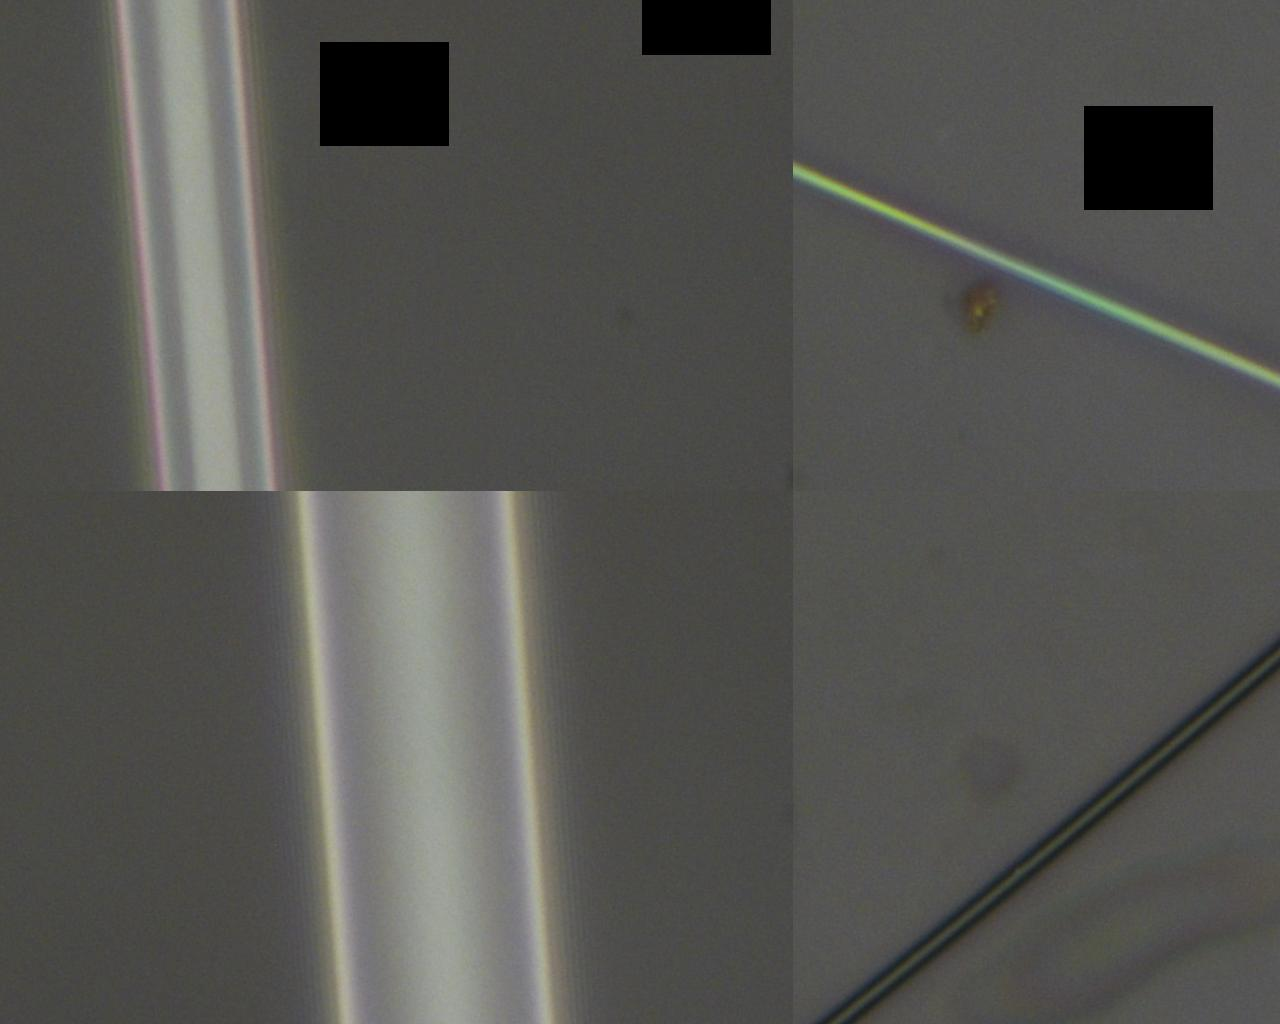fiber: (742, 522, 936, 1024), (575, 0, 713, 522), (811, 0, 910, 522), (430, 522, 509, 1024)
